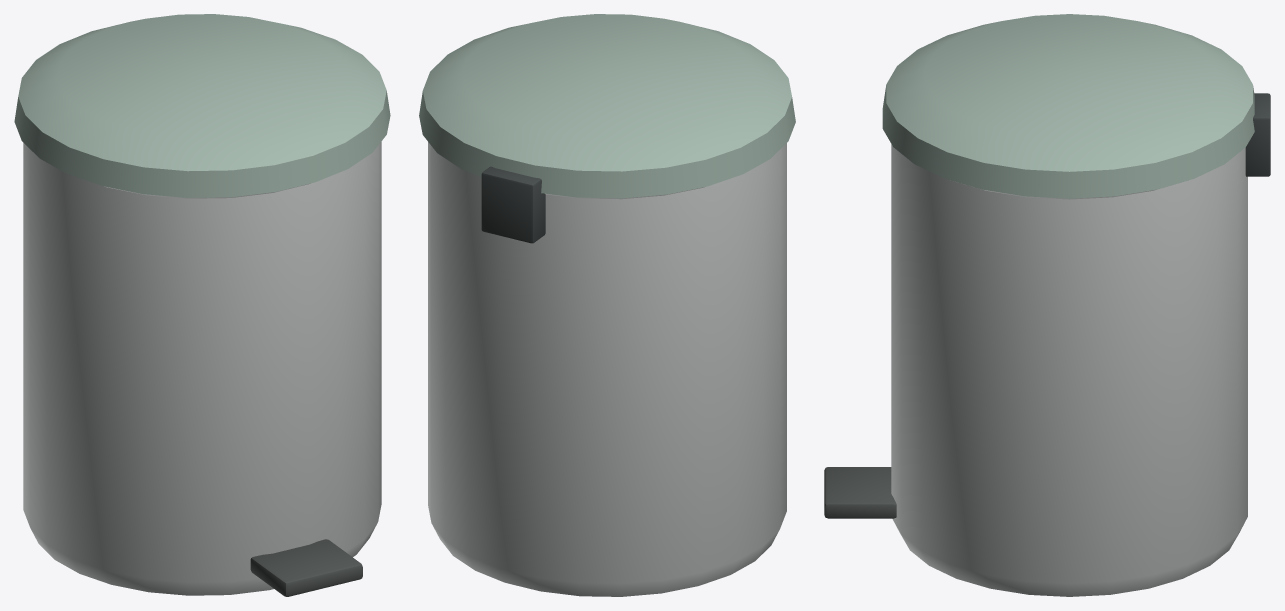
Rendered from CTCC_PROP_PedalBin.fbx.
The picture shows the model from 3 angles, left to right: view 1: azimuth 30°, elevation 25°; view 2: azimuth 150°, elevation 25°; view 3: azimuth 270°, elevation 25°; orthographic projection.
Parts seen in each view (by area): view 1: CTCC_PROP_PedalBin_LOD0; view 2: CTCC_PROP_PedalBin_LOD0; view 3: CTCC_PROP_PedalBin_LOD0.
Boxes of the visible parts, box(x1,y1,x2,y2) form: CTCC_PROP_PedalBin_LOD0: box(14, 14, 390, 596); CTCC_PROP_PedalBin_LOD0: box(419, 14, 795, 596); CTCC_PROP_PedalBin_LOD0: box(824, 14, 1270, 596).
Size of what is drawn, in the model's own units: 0.298 by 0.396 by 0.353.
